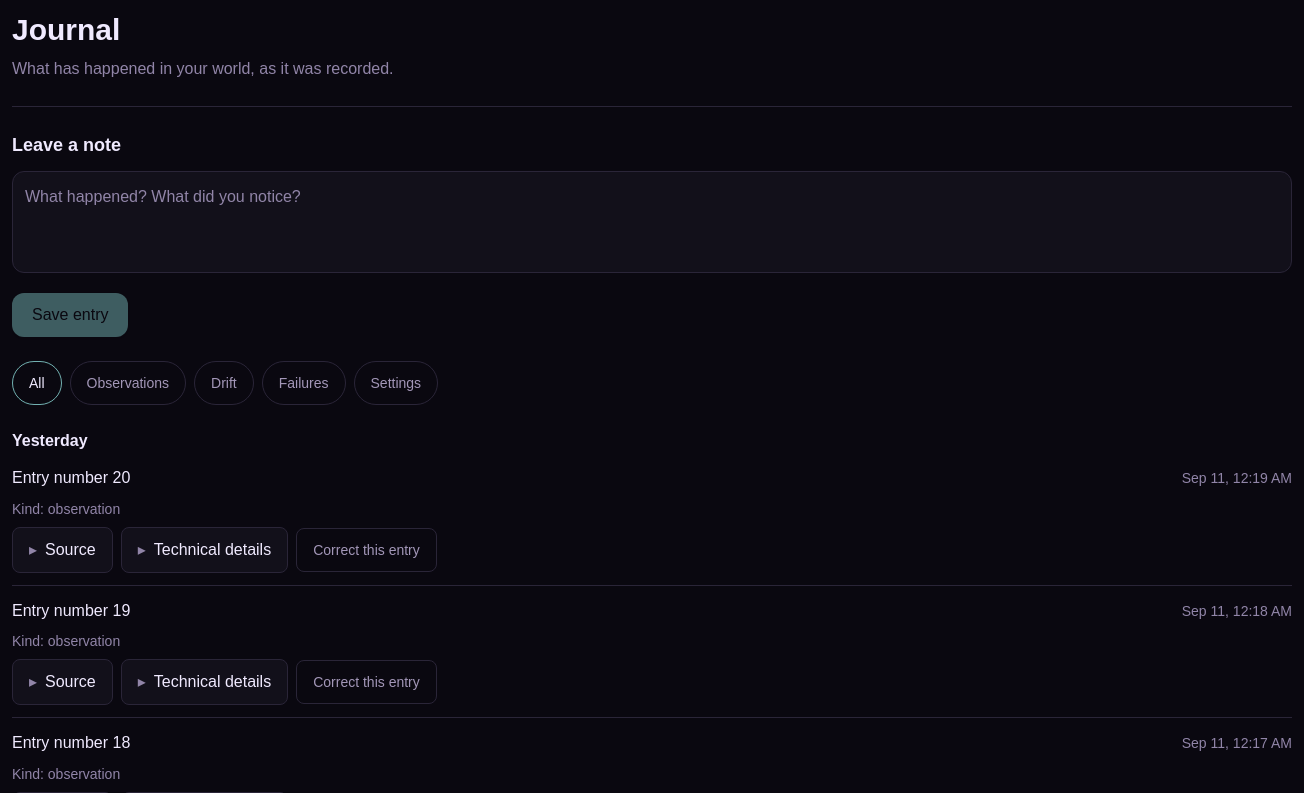
Test: JournalScreen (T10, parity row 4) › kind filters are aria-pressed toggles
Click the button "Drift": [224, 383] box [194, 361, 254, 405]
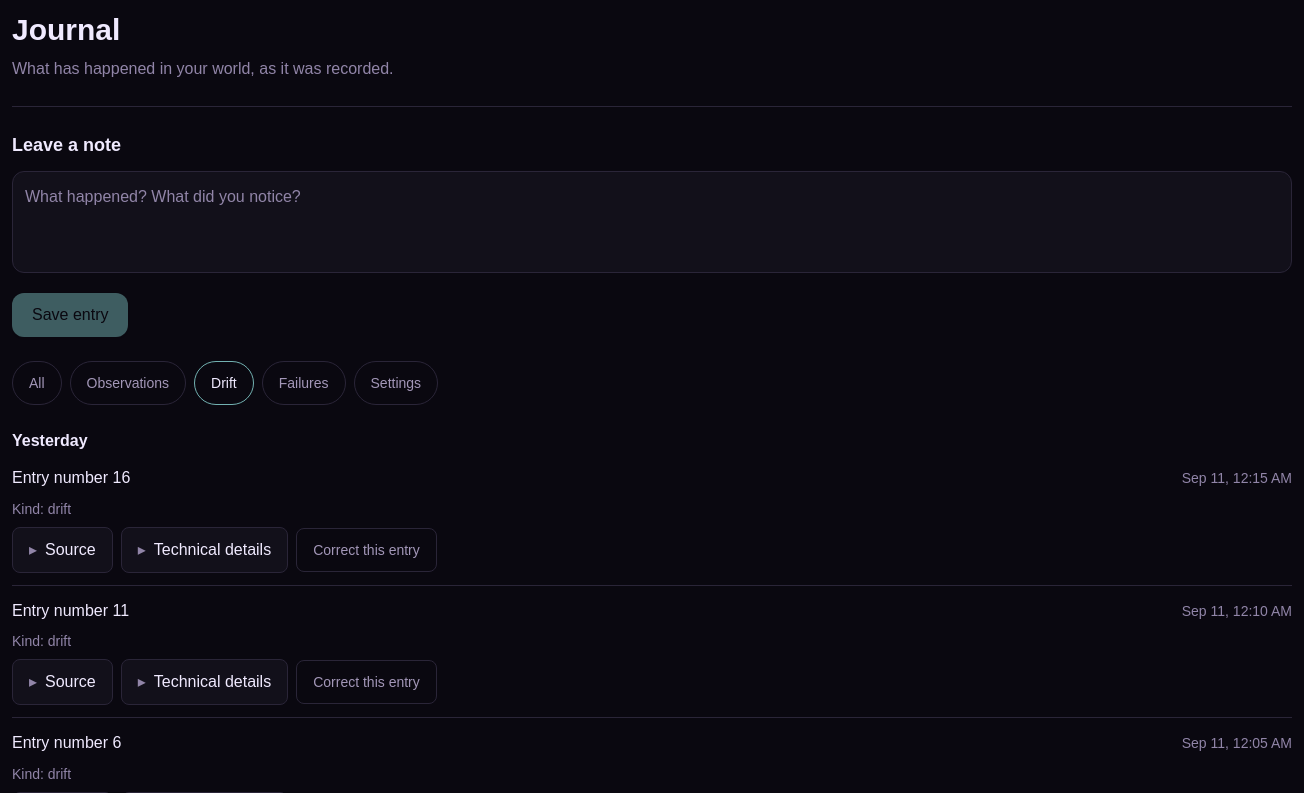
Expected: the text "Kind: drift" below "Entry number 16" is shown, [12, 501, 71, 517]
Now the text "Kind: observation" is gone
